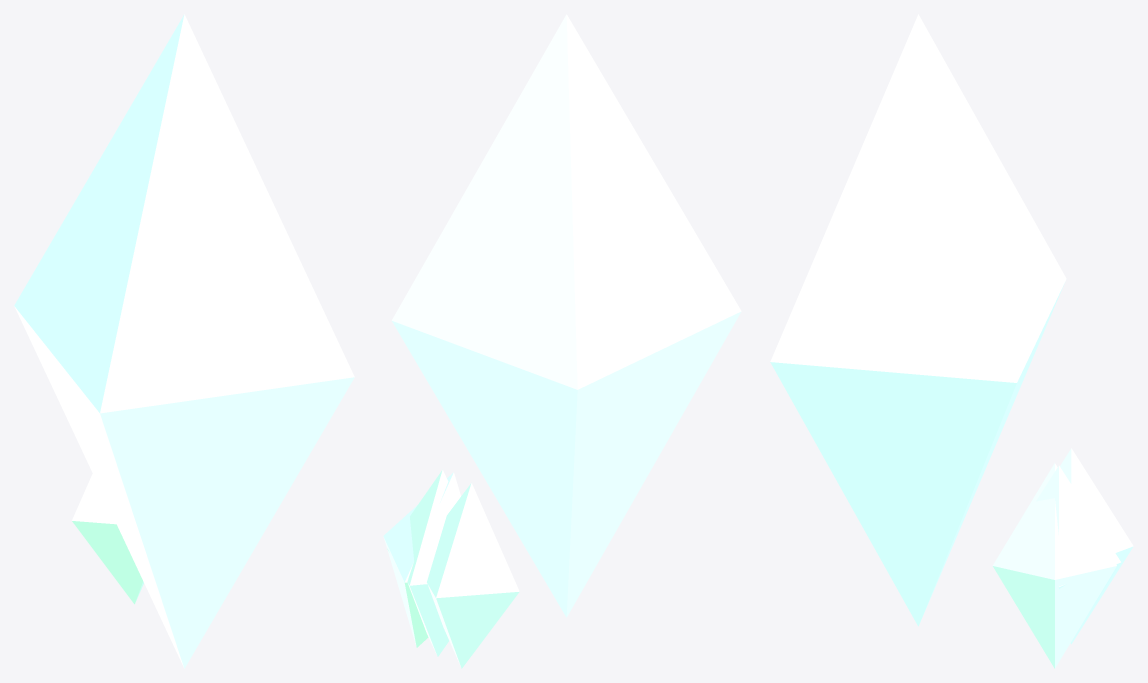
File: crystal_2.glb
3 renders of one model, left to right at view 1: azimuth 30°, elevation 25°; view 2: azimuth 150°, elevation 25°; view 3: azimuth 270°, elevation 25°, orthographic. The views are drawn at different scales.
Parts seen in each view (by area): view 1: crystal_2; view 2: crystal_2; view 3: crystal_2.
Boxes of the visible parts, x1=… form: crystal_2: x1=14, y1=14, x2=354, y2=668; crystal_2: x1=383, y1=14, x2=741, y2=668; crystal_2: x1=770, y1=14, x2=1133, y2=668.
Size of the model in its own units: 0.6663 by 1.53 by 0.8171.
